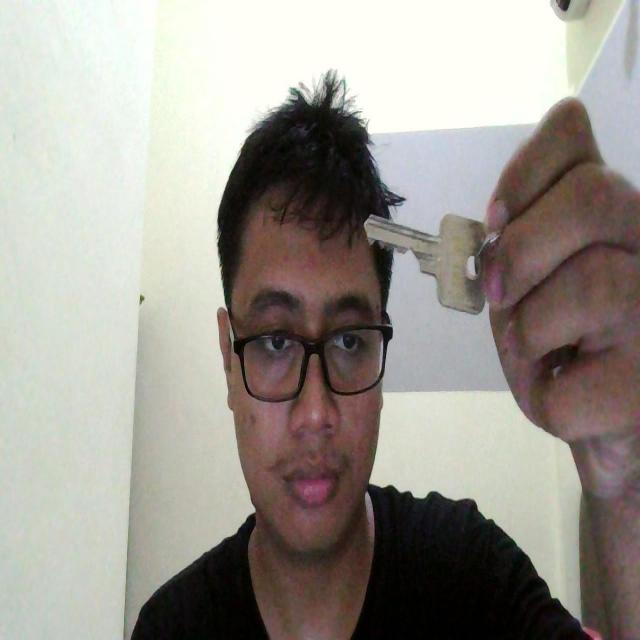kunci_kos: (360, 198, 497, 330)
